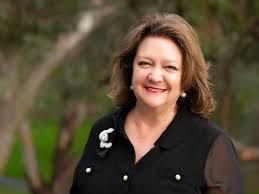Persons: (108, 15, 214, 123)
